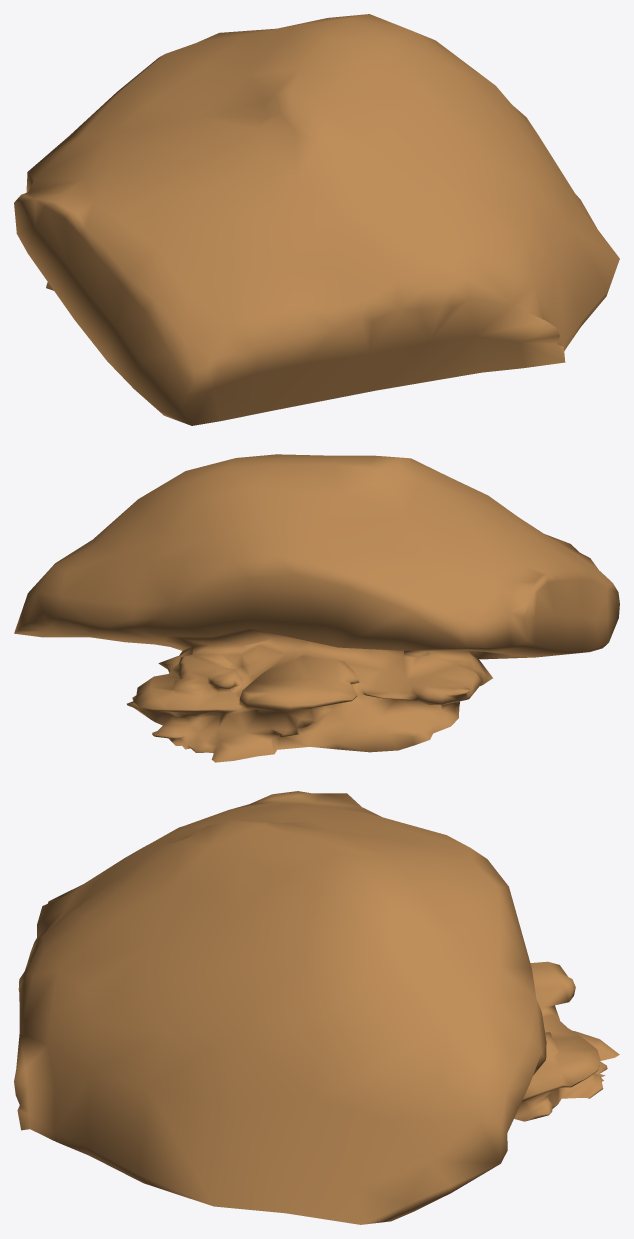
File: MSH_Rocks_Boulder_22.FBX
3 renders of one model, top to bottom at view 1: azimuth 30°, elevation 25°; view 2: azimuth 150°, elevation 25°; view 3: azimuth 270°, elevation 25°, orthographic. The views are drawn at different scales.
Parts seen in each view (by area): view 1: MESH_LOD0; view 2: MESH_LOD0; view 3: MESH_LOD0.
Part boxes in pixels (box(x1,y1,x2,y2)): MESH_LOD0: box(14, 14, 619, 425); MESH_LOD0: box(14, 454, 619, 762); MESH_LOD0: box(14, 791, 619, 1224).
Size of what is drawn, in the model's own units: 93.34 by 37.44 by 84.71.
